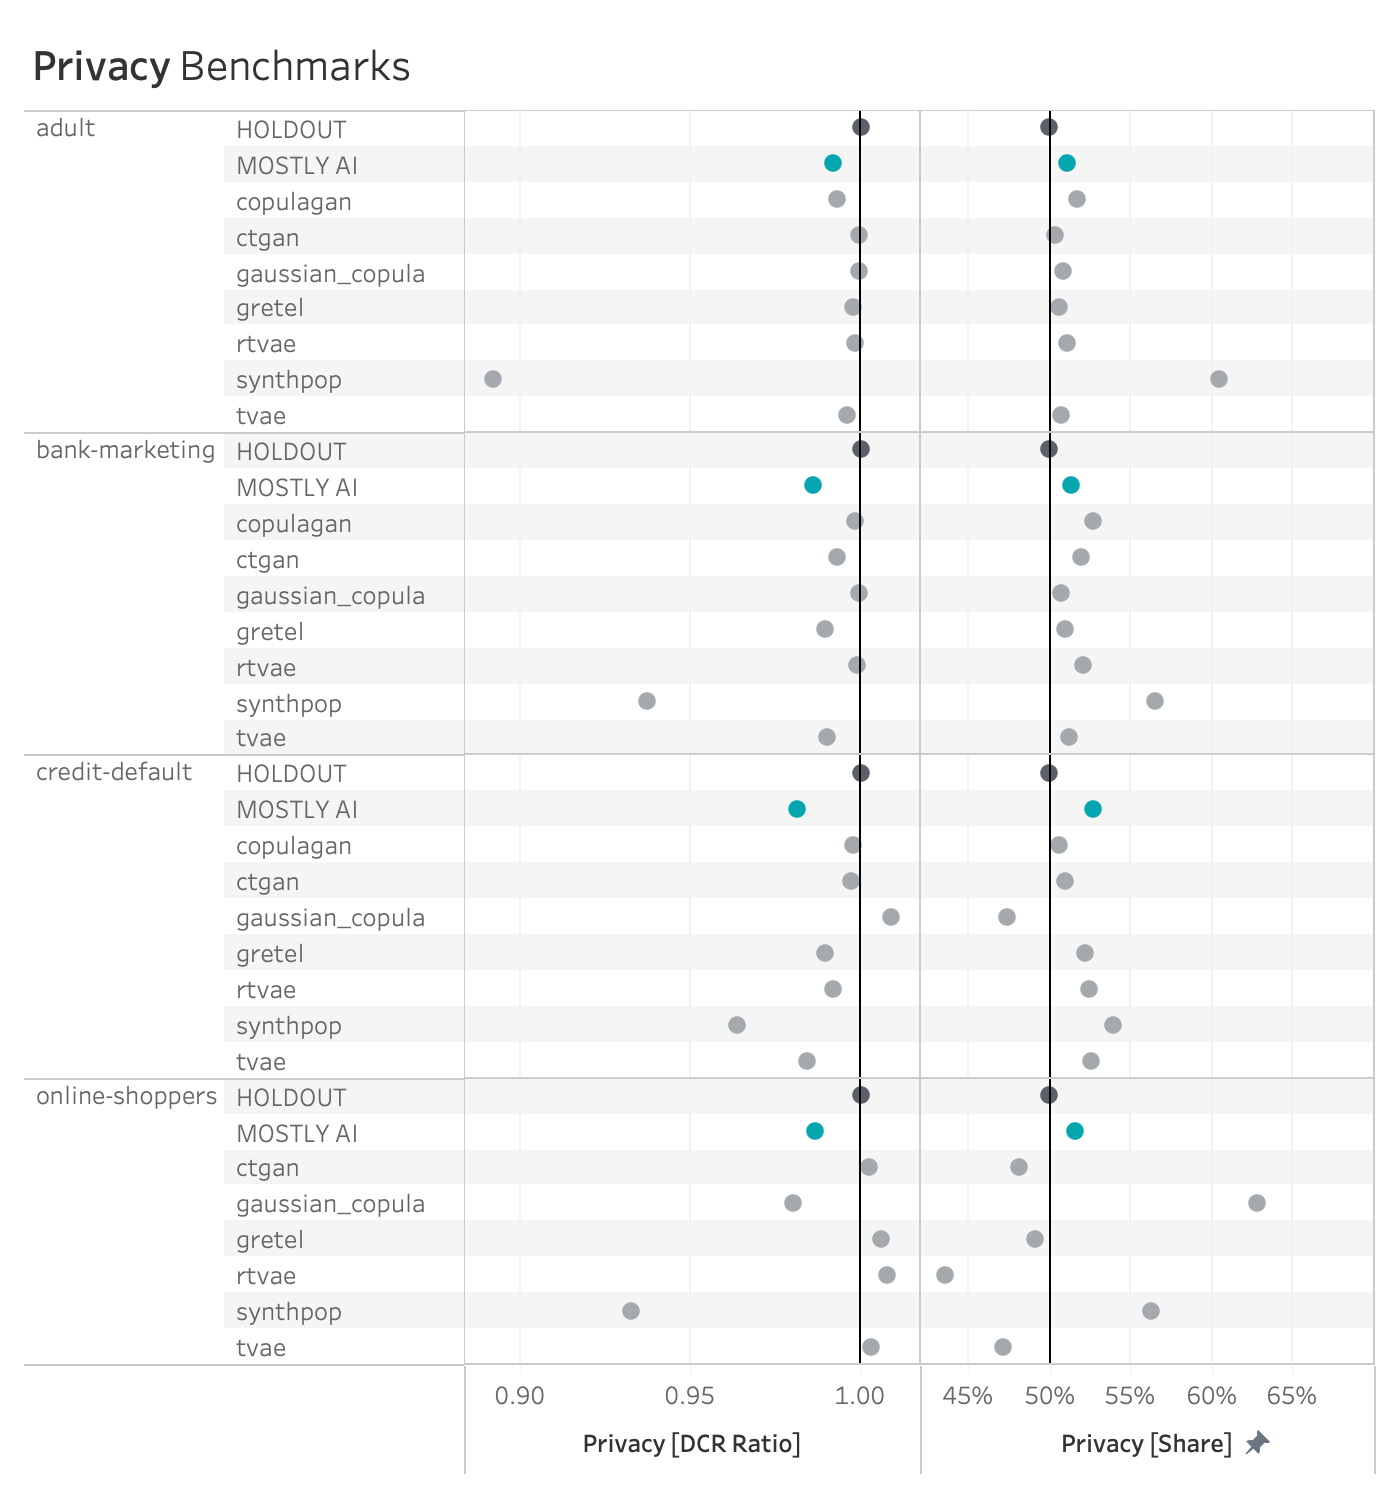

The dashboard page shown, as its layout file describes it:
{"tool":"tableau","page":{"name":"privacy_all","canvas":[700,750],"ordinal":5},"visuals":[{"type":"worksheet","title":"priv_share (2)","mark":"Shape","rows":["dataset","synthesizer"],"cols":["priv_dcr_ratio_q50","priv_share"],"box":[8,8,684,734]}]}

Visuals, with their boxes in screenshot pixels (x1, y1, x2, y2), scaled from the page's 700x750 canvas onto the 1400x1500 screenshot:
"priv_share (2)" worksheet (Shape marks): <bbox>16, 16, 1384, 1484</bbox>
